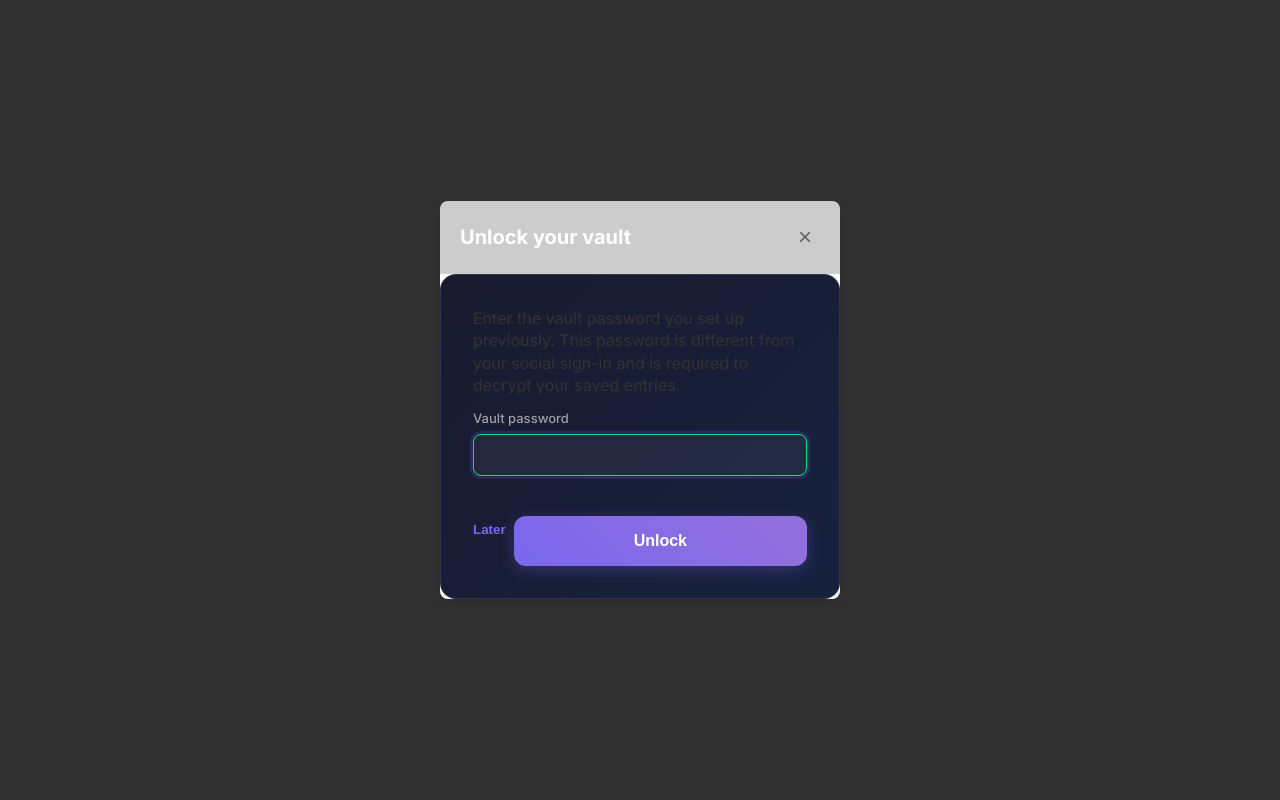
Test: unlock mode — envelope already provisioned › a wrong password surfaces the identical string regardless of the underlying error
Type "wrong-password" into the password field labelled "Vault password" at (640, 455), box [473,434,807,476]
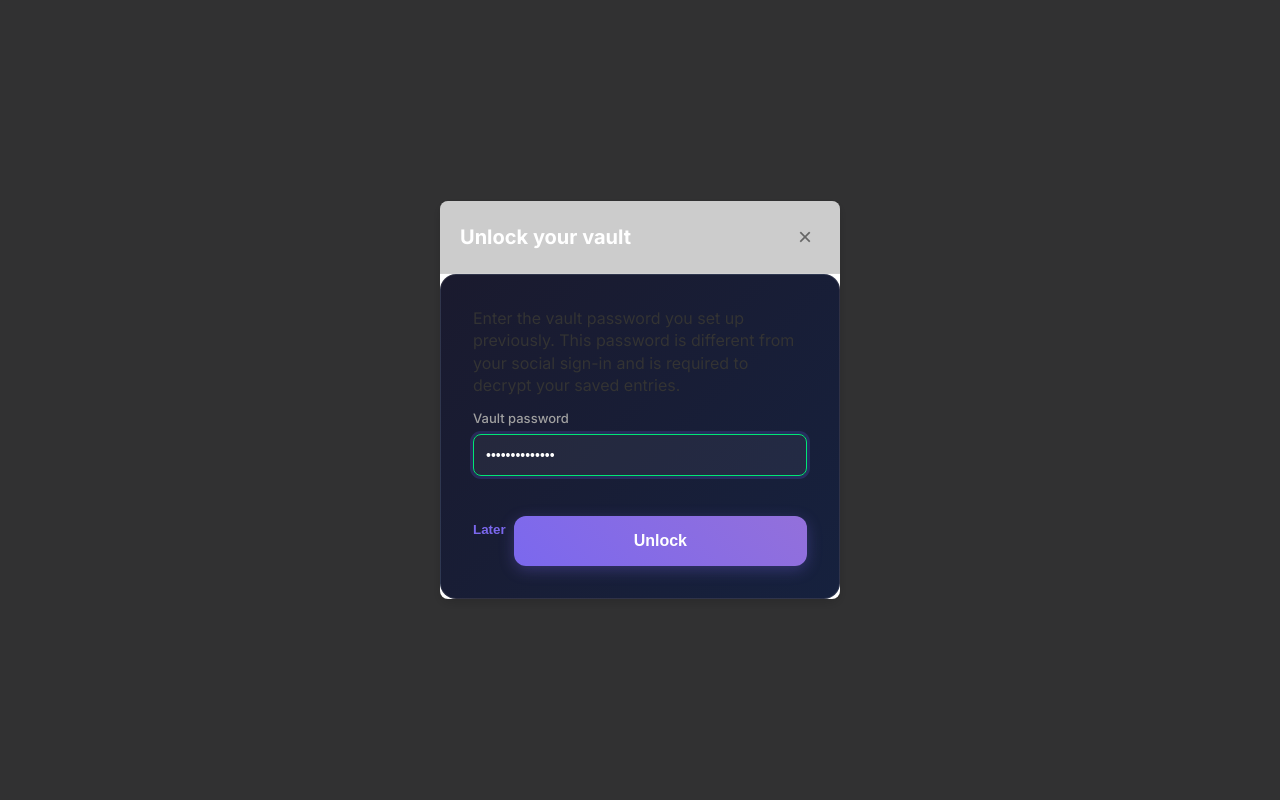
Click the button "Unlock" at (660, 541), box [514,516,807,566]
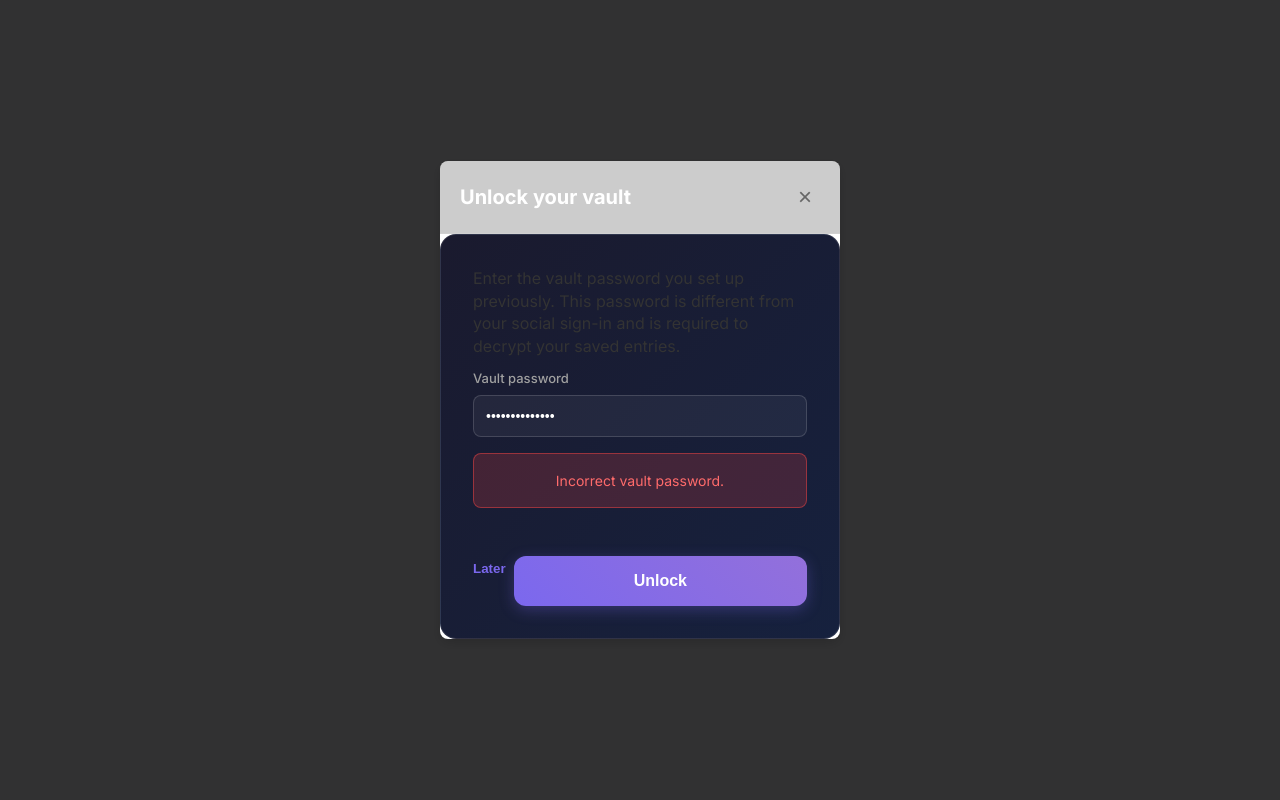
Check: the message reads "Incorrect vault password.", box [556,472,724,488]
